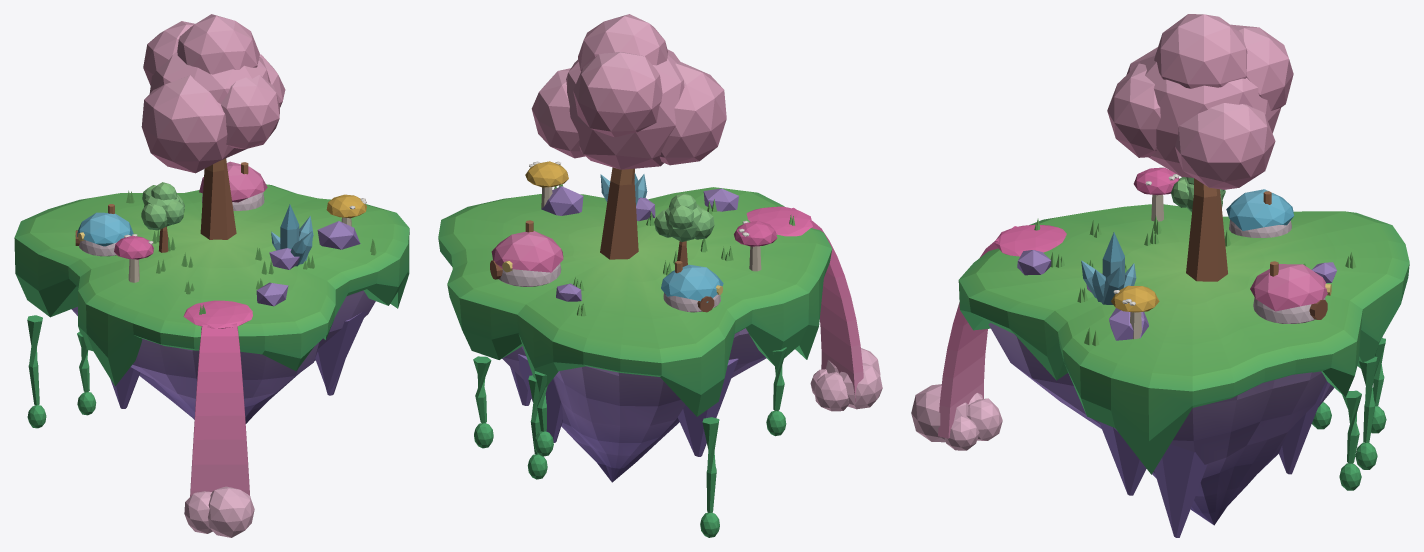
The model's file is obby_island_tree.fbx.
3 renders of one model, left to right at view 1: azimuth 30°, elevation 25°; view 2: azimuth 150°, elevation 25°; view 3: azimuth 270°, elevation 25°, orthographic. The views are drawn at different scales.
Parts seen in each view (by area): view 1: obby_island_tree; view 2: obby_island_tree; view 3: obby_island_tree.
Part boxes in pixels (left/top/right/bottom): obby_island_tree: left=14, top=14, right=409, bottom=537; obby_island_tree: left=438, top=14, right=882, bottom=537; obby_island_tree: left=911, top=14, right=1409, bottom=537.
Bounding box in the file's own units: 91.99 × 116 × 104.
